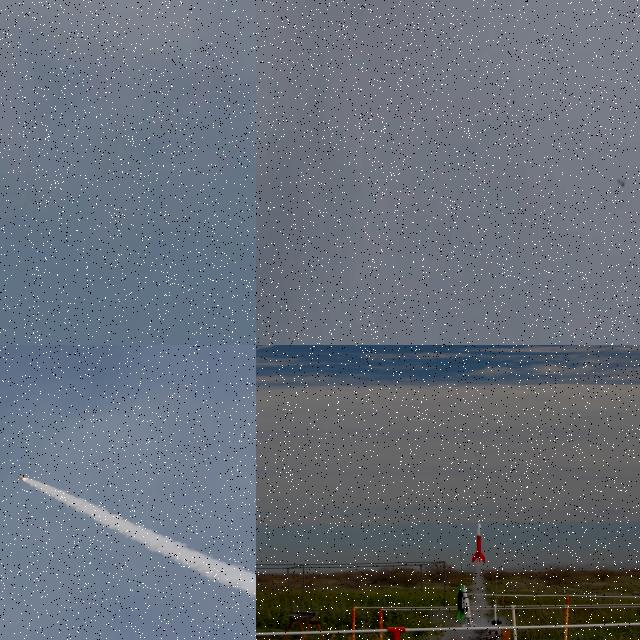Rocket: (461, 585, 478, 628), (471, 522, 486, 564), (491, 599, 503, 626), (617, 179, 625, 188), (18, 476, 27, 482)
